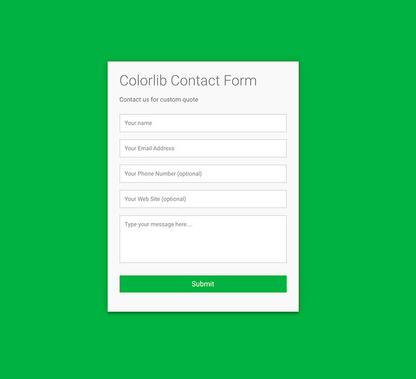button: (117, 274, 290, 294)
field: (118, 214, 289, 266), (117, 188, 289, 210), (118, 112, 289, 133), (117, 163, 288, 184), (118, 138, 287, 158)
